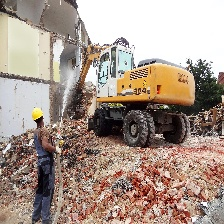helmet: (32, 106, 45, 125)
no-vest: (33, 125, 52, 162)
person: (29, 106, 58, 224)
